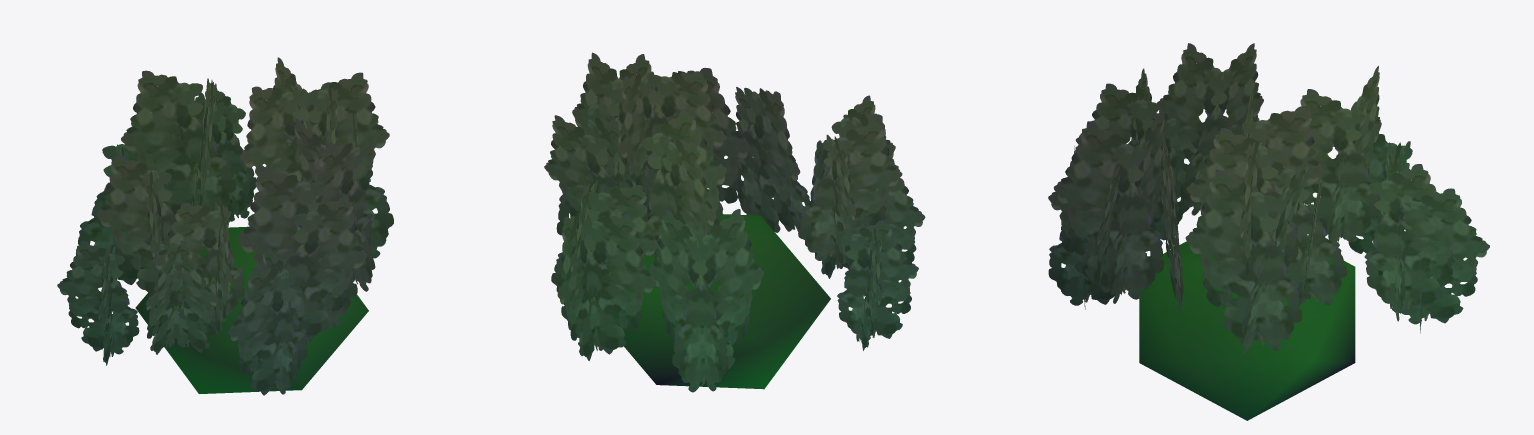
The model's file is nat_bush_green_a_LOD2.glb.
3 views of the same model, side by side, from view 1: azimuth 30°, elevation 25°; view 2: azimuth 150°, elevation 25°; view 3: azimuth 270°, elevation 25° (orthographic). The views are drawn at different scales.
Parts seen in each view (by area): view 1: geometry_0; view 2: geometry_0; view 3: geometry_0.
Boxes of the visible parts, <box> form: geometry_0: <box>57,57,393,395</box>; geometry_0: <box>544,52,925,392</box>; geometry_0: <box>1048,43,1489,420</box>.
Size of the model in its own units: 1.39 by 1.04 by 1.54.
Materials: 1 (1 with a texture image).
